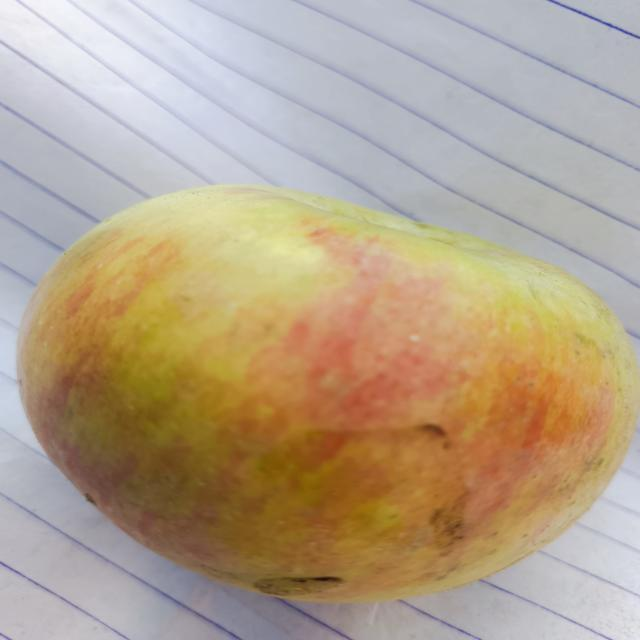Fresh Apple: (14, 176, 640, 604)
